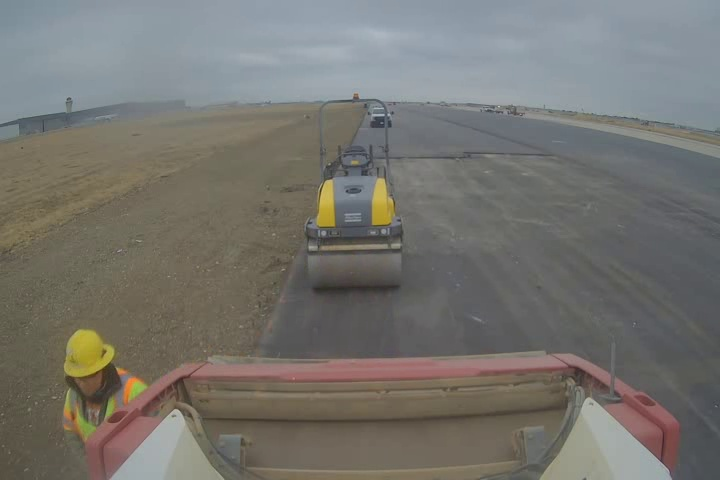person: (59, 328, 151, 447)
vehicle: (86, 348, 683, 477), (306, 97, 403, 287), (354, 109, 382, 136)
vest: (62, 368, 149, 442)
yellow_helmet: (63, 328, 114, 395)
